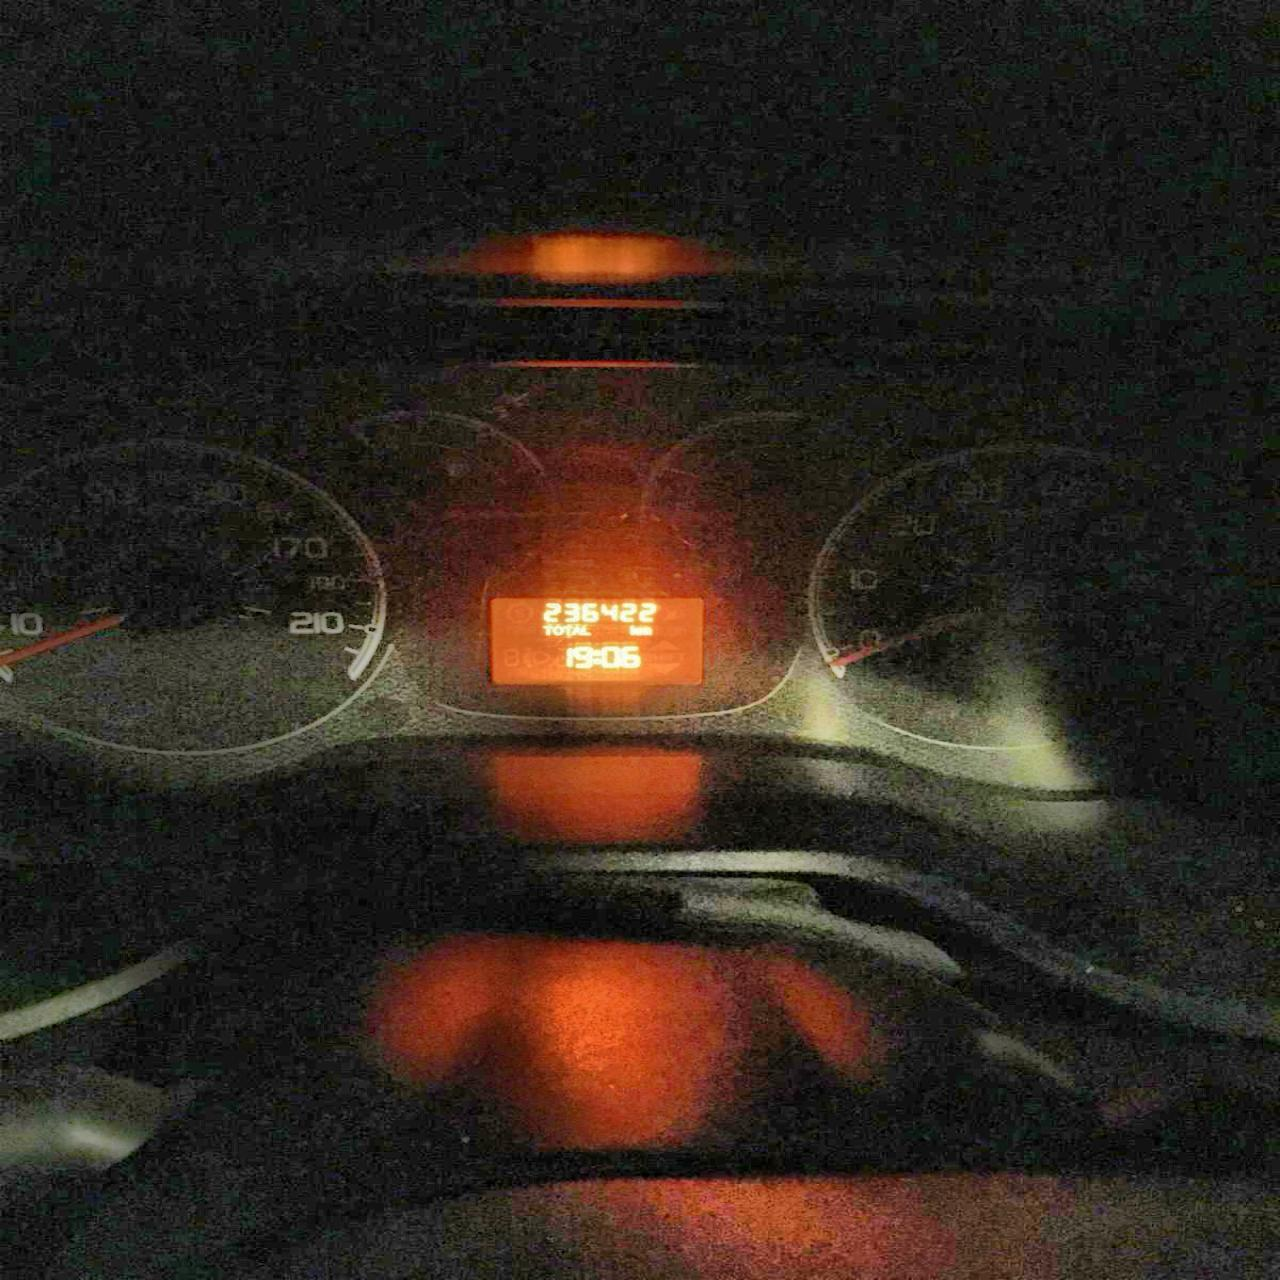0: (601, 644, 620, 669)
1: (564, 645, 573, 669)
2: (639, 601, 658, 622), (542, 602, 560, 621), (620, 601, 635, 622)
3: (563, 601, 579, 622)
4: (599, 601, 618, 620)
6: (620, 645, 641, 668), (580, 600, 598, 622)
9: (574, 645, 592, 669)
X: (593, 647, 601, 667), (640, 625, 653, 636), (563, 624, 573, 636), (629, 624, 639, 635), (581, 624, 591, 635), (543, 624, 551, 636), (553, 625, 563, 635), (573, 624, 580, 636)
odometer: (484, 594, 712, 688)
